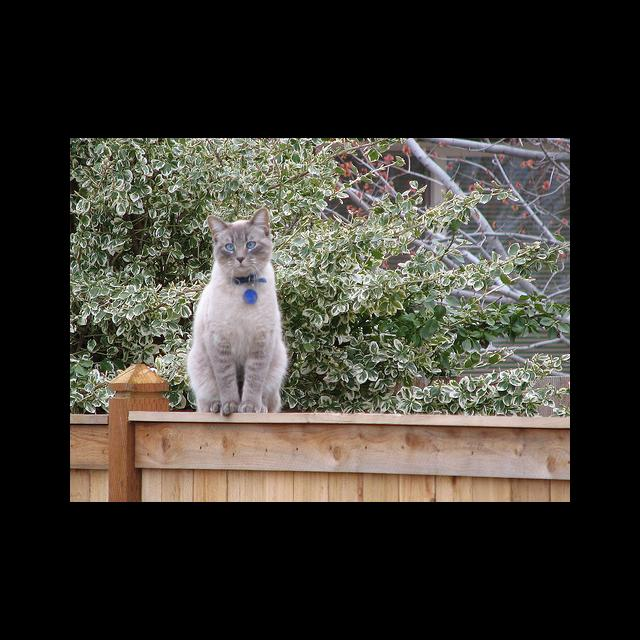animals: (210, 208, 268, 262)
